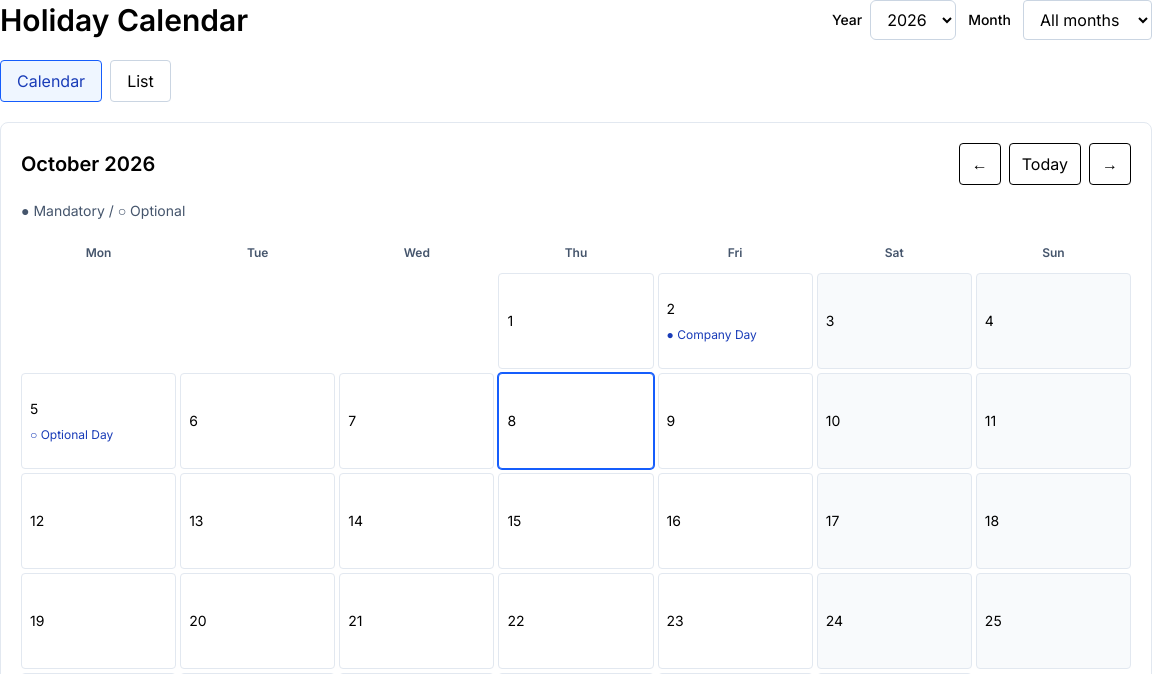
it: Phase 5 calendar › toggles grouped list and renders dates, types and nullable descriptions
Expected: the button with aria-label "Company Day, Mandatory" is shown, top-left (658, 273), bottom-right (813, 369)
Click the button "List": (140, 81) top-left (110, 60), bottom-right (171, 102)
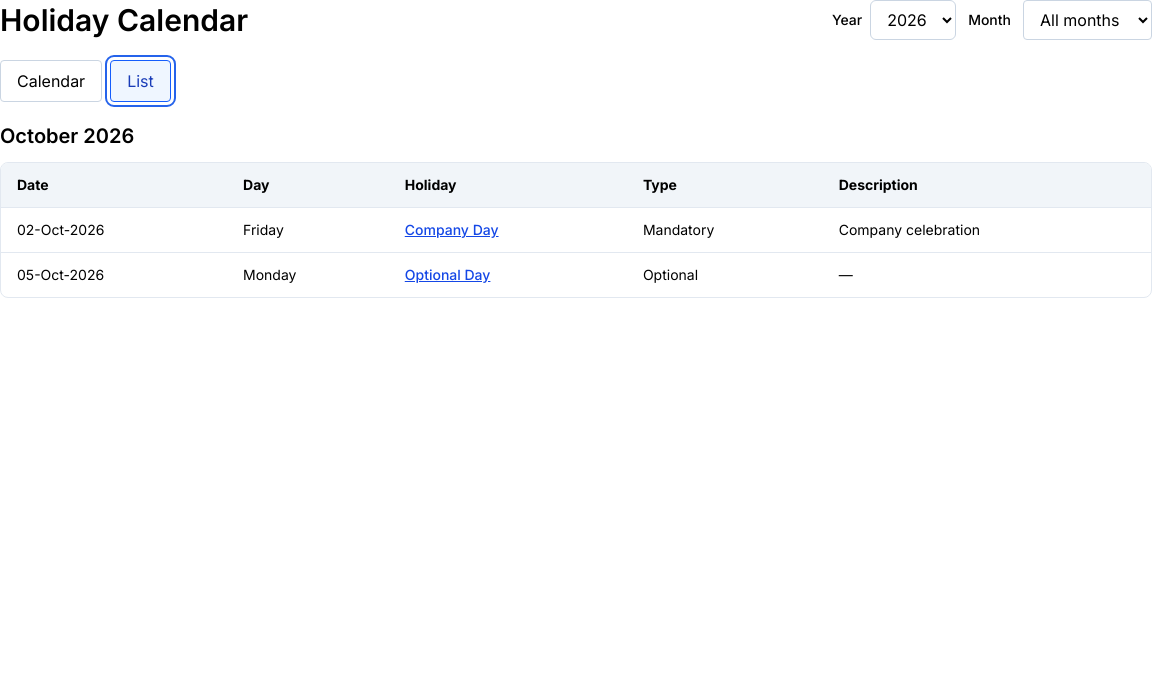
Expected: the text "Optional" is shown, top-left (627, 252), bottom-right (823, 297)
Expected: the text "02-Oct-2026" is shown, top-left (1, 208), bottom-right (227, 252)
Expected: the text "—" is shown, top-left (823, 252), bottom-right (1151, 297)
Click the button "Optional Day": (448, 275) top-left (405, 265), bottom-right (490, 285)
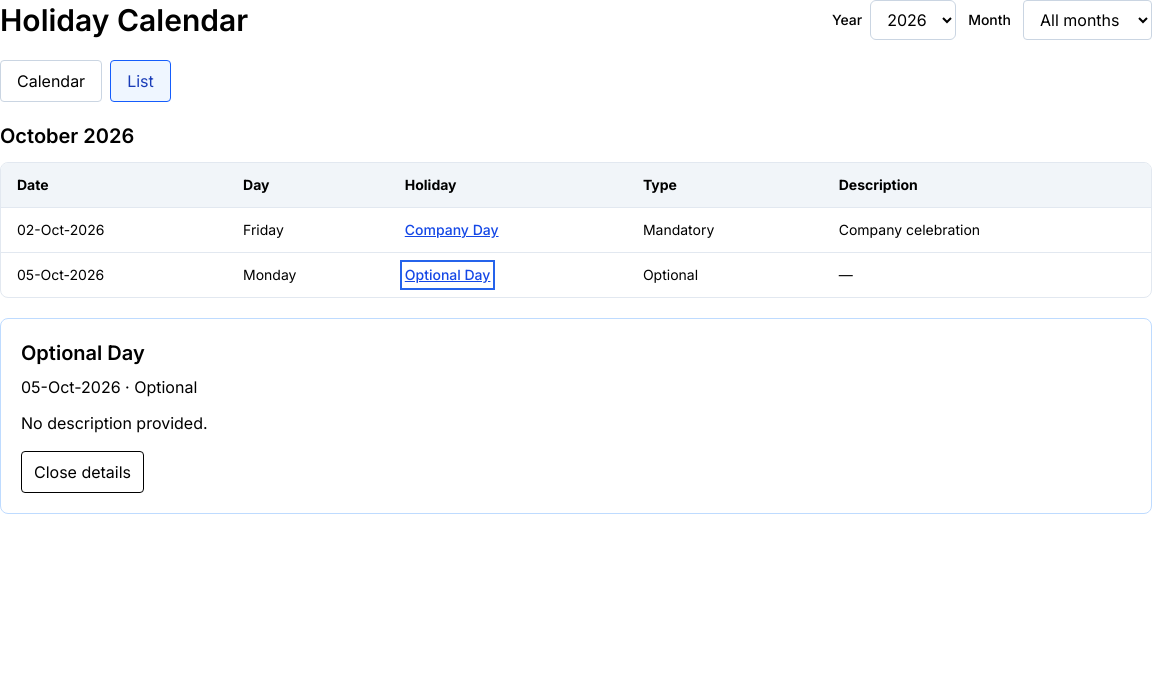
Expected: the element named "Holiday details" shows "No description provided.", top-left (21, 413), bottom-right (208, 433)
